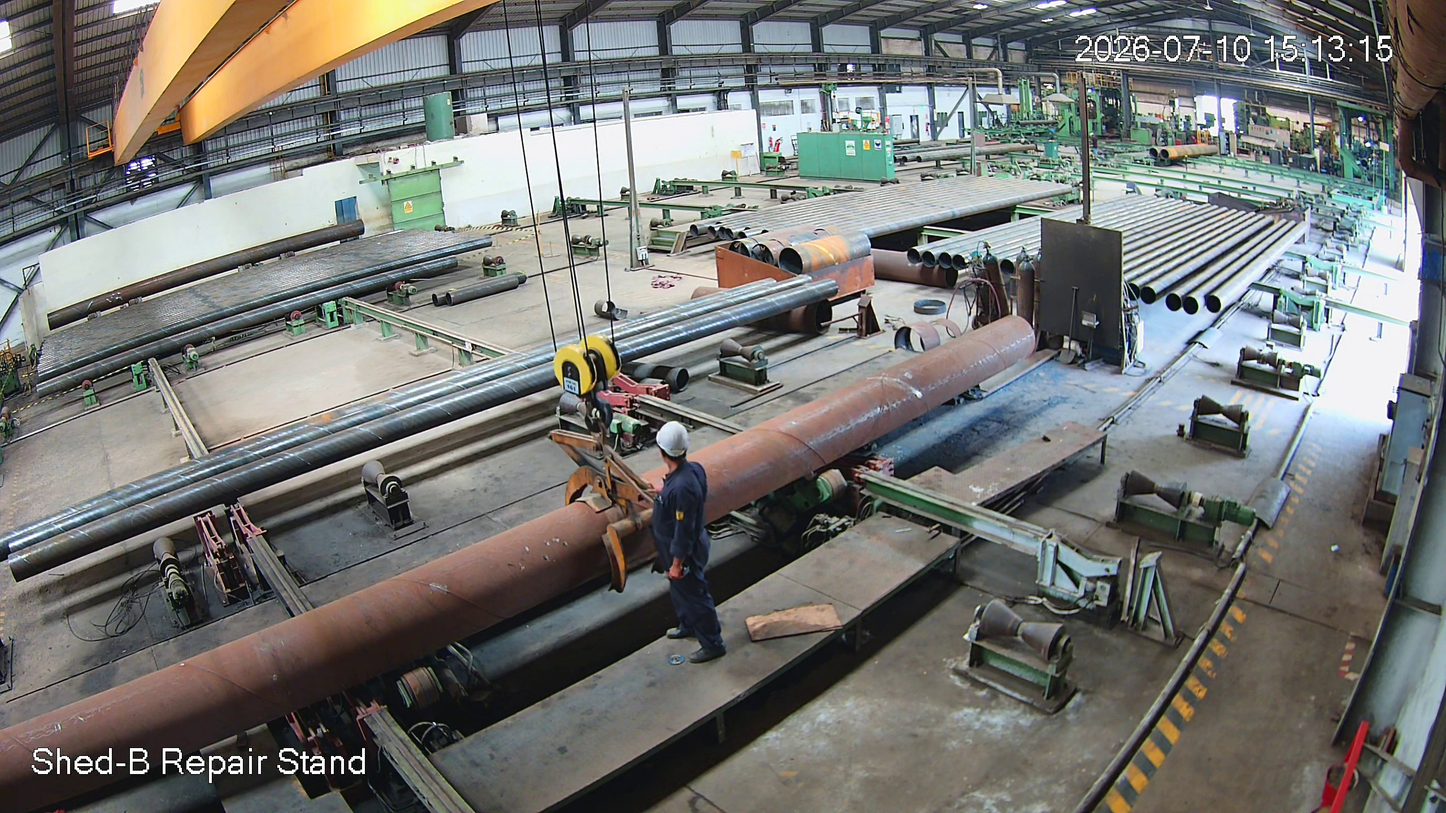Helmet: (653, 408, 709, 482)
Person: (645, 419, 730, 665)
